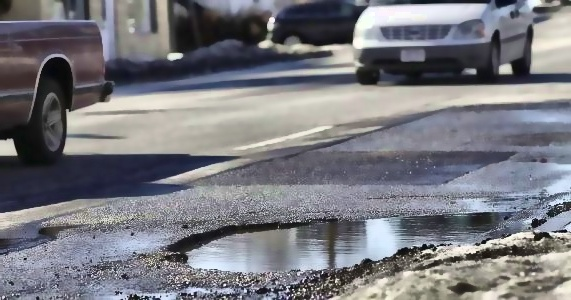pothole: (163, 209, 519, 270), (38, 223, 78, 237)
